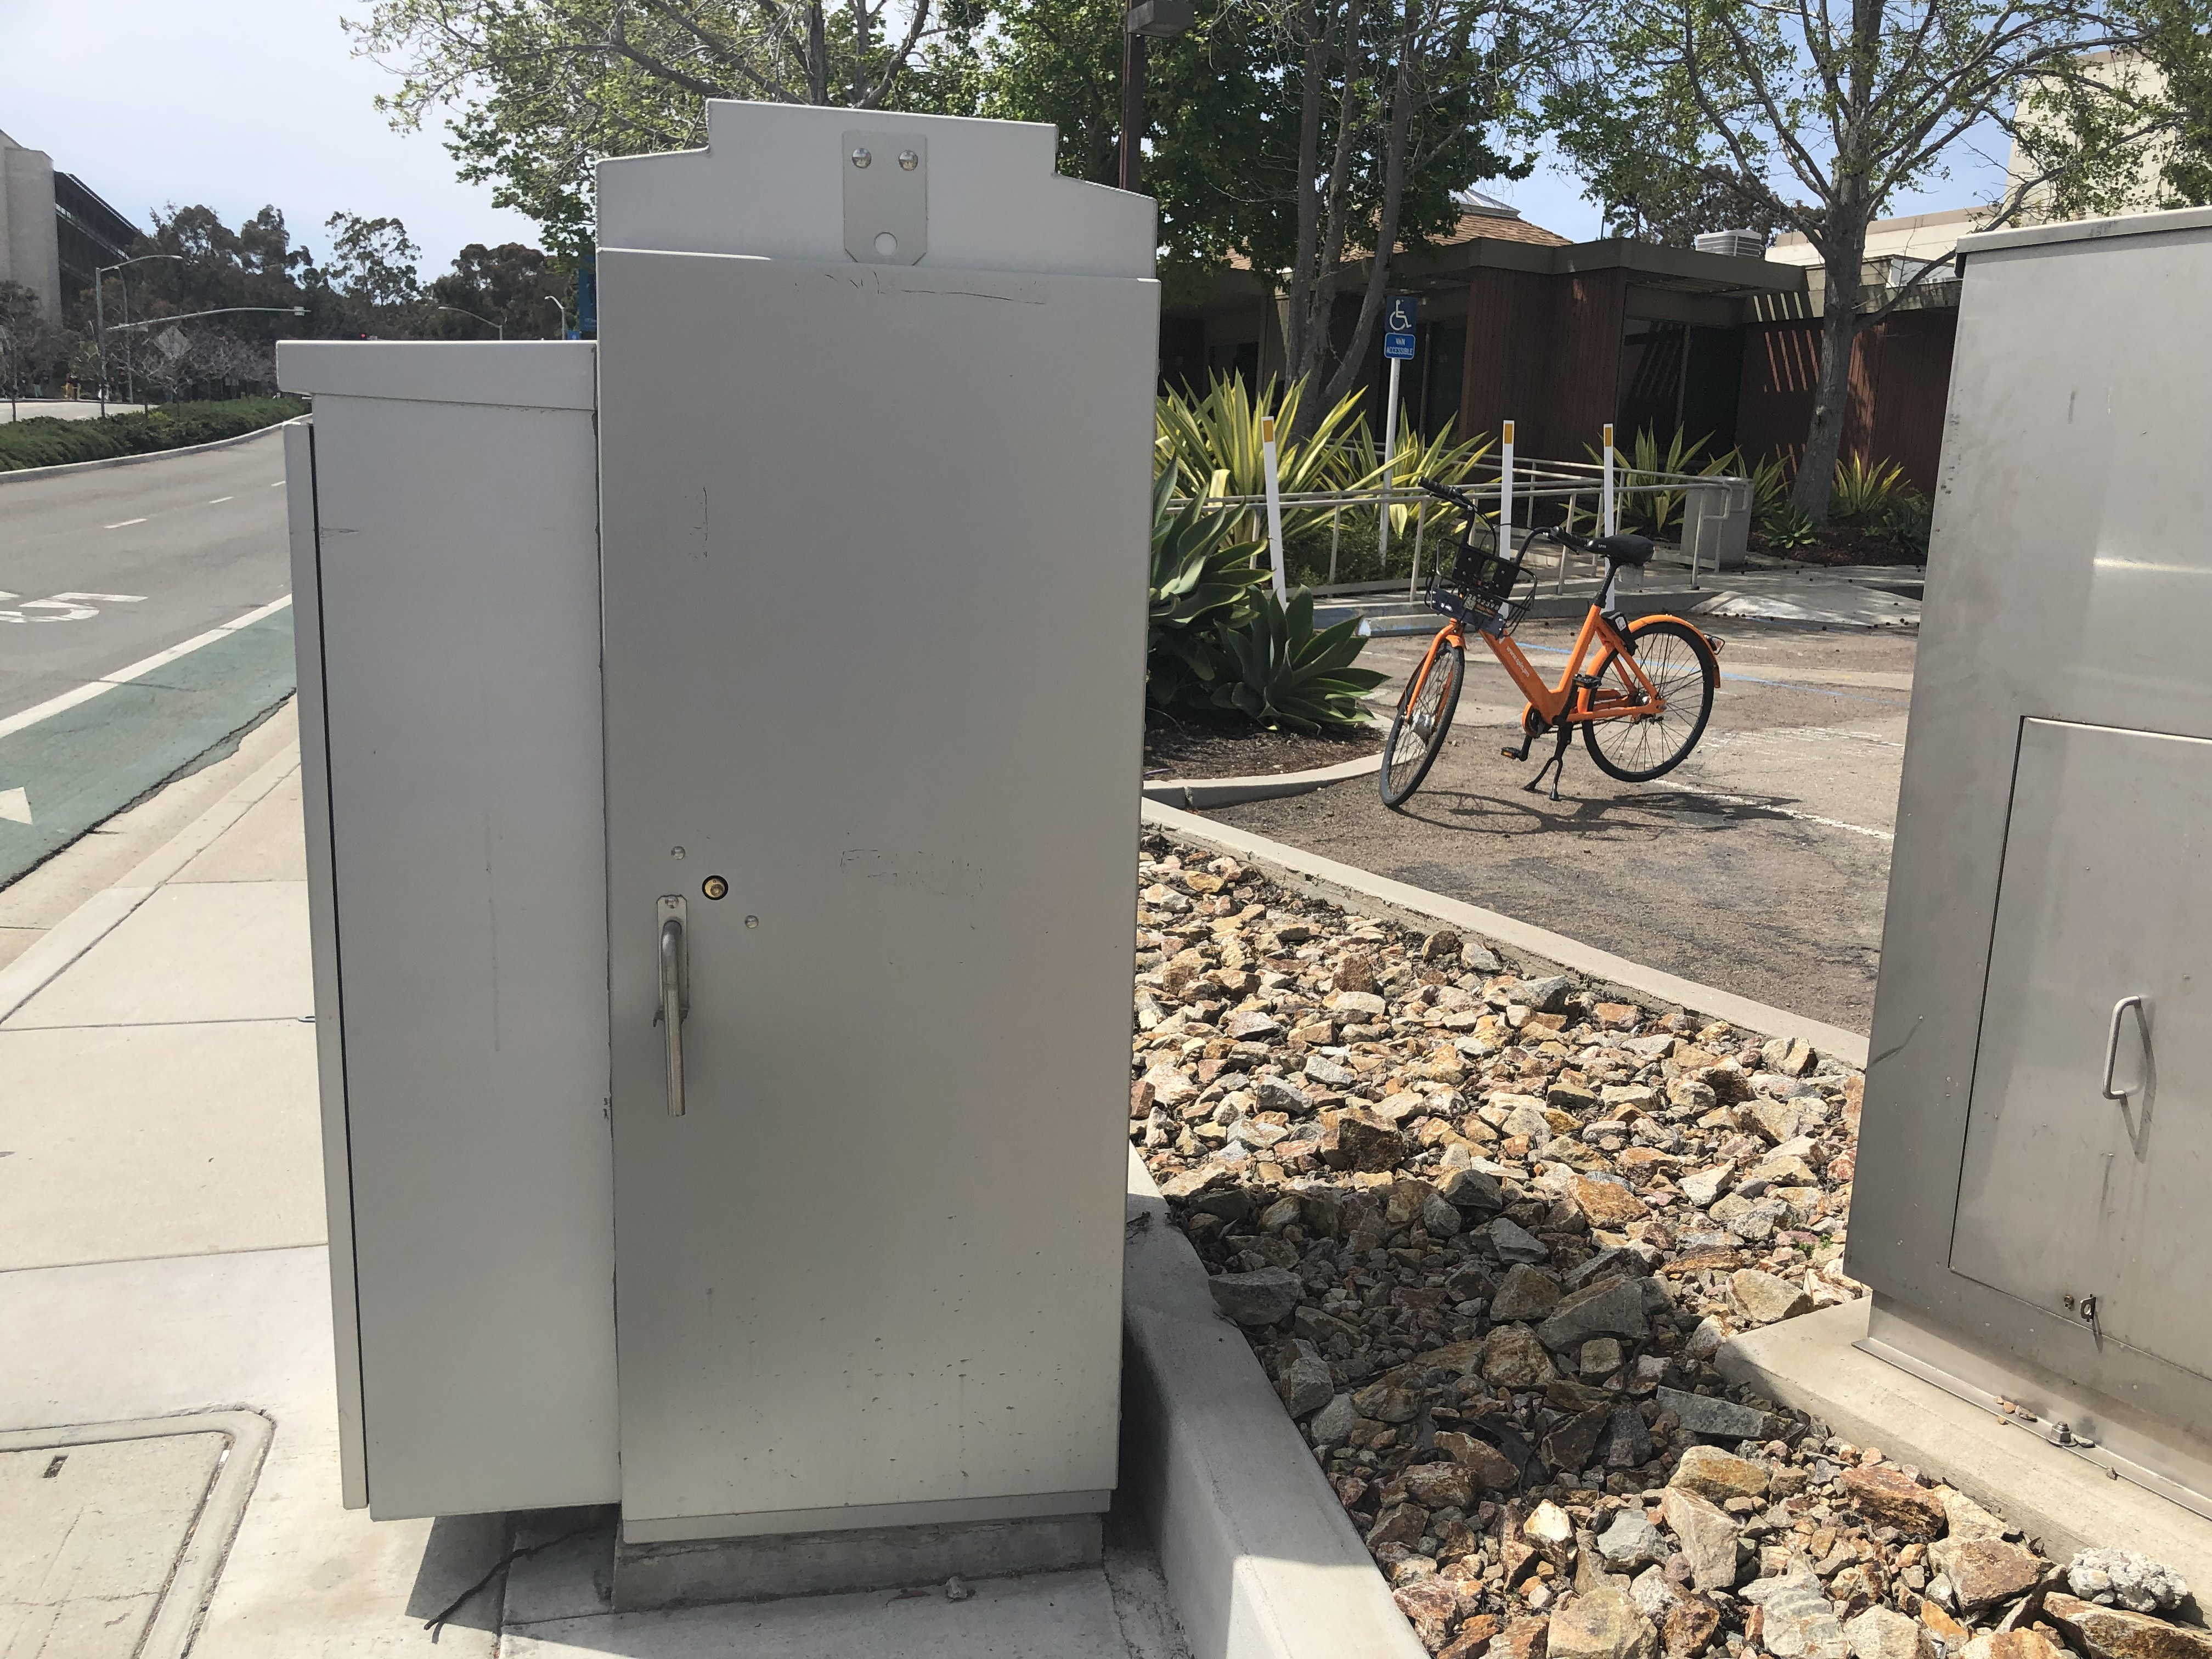Edge: (1136, 770, 1851, 1087), (1097, 1178, 1416, 1643), (5, 728, 275, 1080)
Obstacle: (289, 112, 1132, 1588), (1355, 477, 1740, 847)
